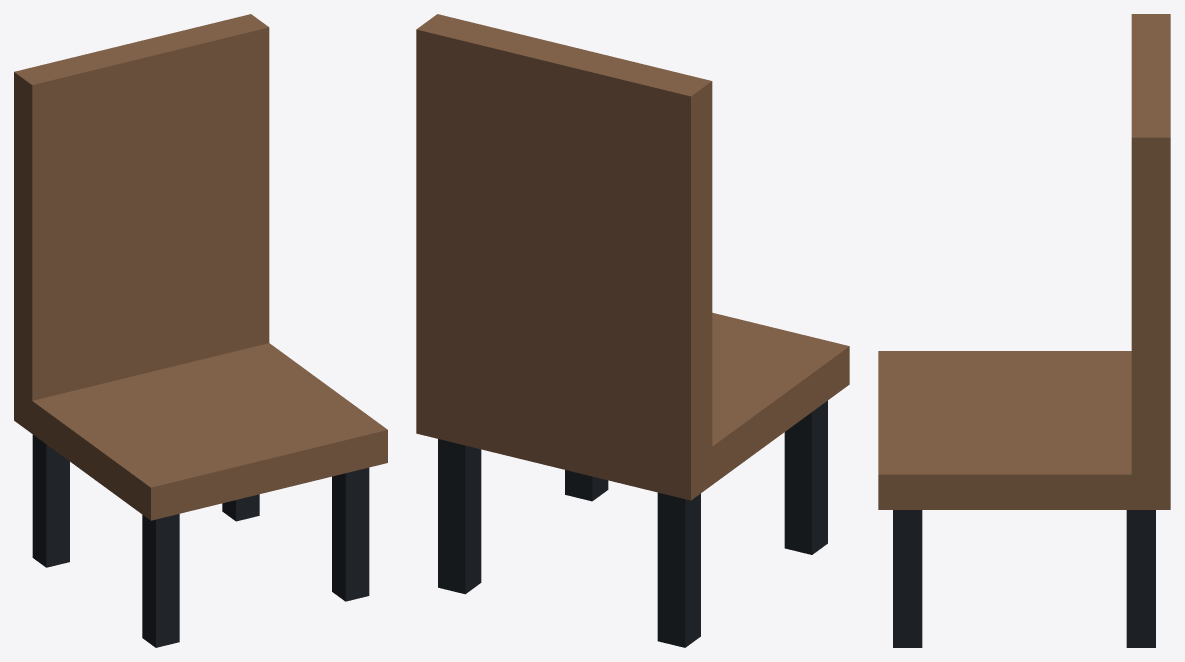
File: chair.glb
3 renders of one model, left to right at view 1: azimuth 30°, elevation 25°; view 2: azimuth 150°, elevation 25°; view 3: azimuth 270°, elevation 25°, orthographic. The views are drawn at different scales.
Size of the model in its own units: 0.9 by 1.75 by 0.9.
